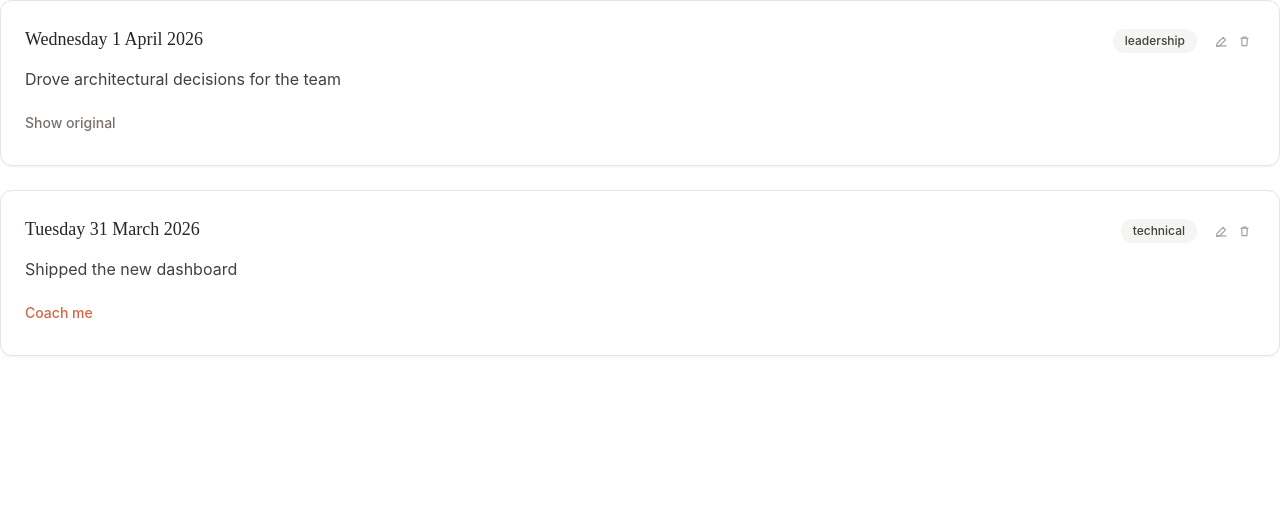
Test: EntryList — edit flow › pre-fills with the reframed text when one exists
This screenshot has width=1280, height=521.
Click the button named "Edit entry" next to "leadership".
click(1222, 41)  # box [1211,30,1232,52]
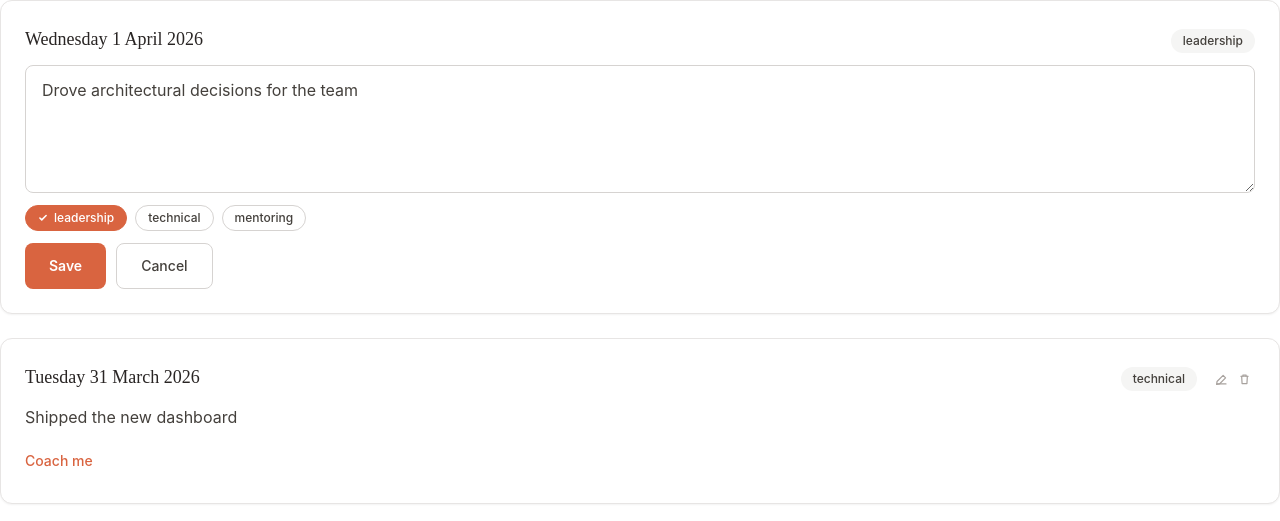
Now the text box named "Edit entry text" holds "Drove architectural decisions for the team", box [25,65,1255,193]
